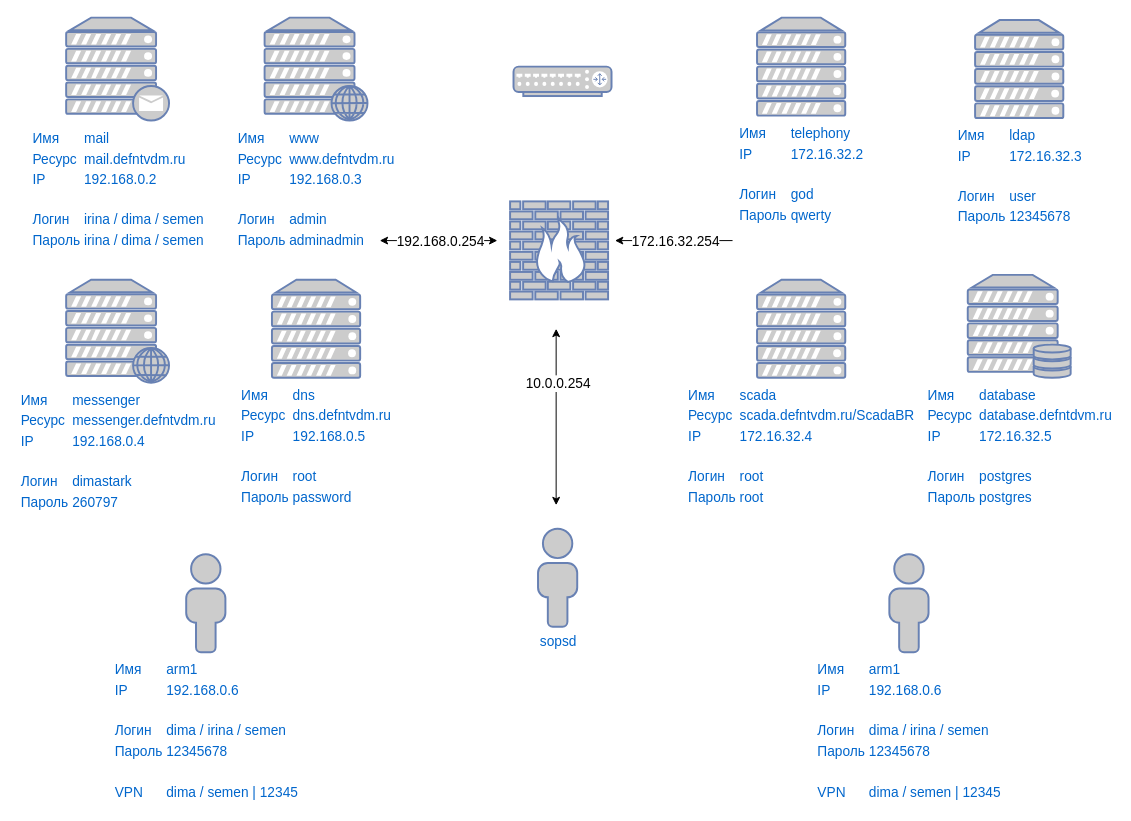
The diagram is 1131 pixels wide and 821 high, and some of its shapes have lost their labels. The shapes that lost their labels are listed below. From the top down, each one's centre as x and y in pixels, then its label:
point (562, 81): Имя router (VPN, Radius) Логин user Пароль 12345
point (559, 250): snort
